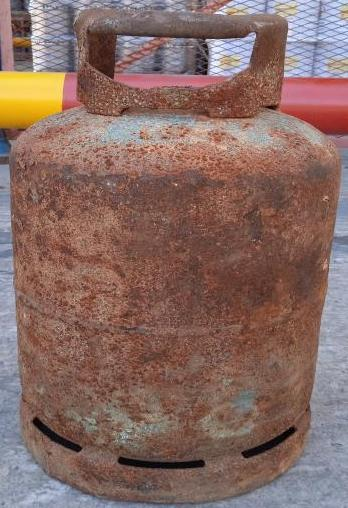cylinder: (0, 1, 348, 508)
